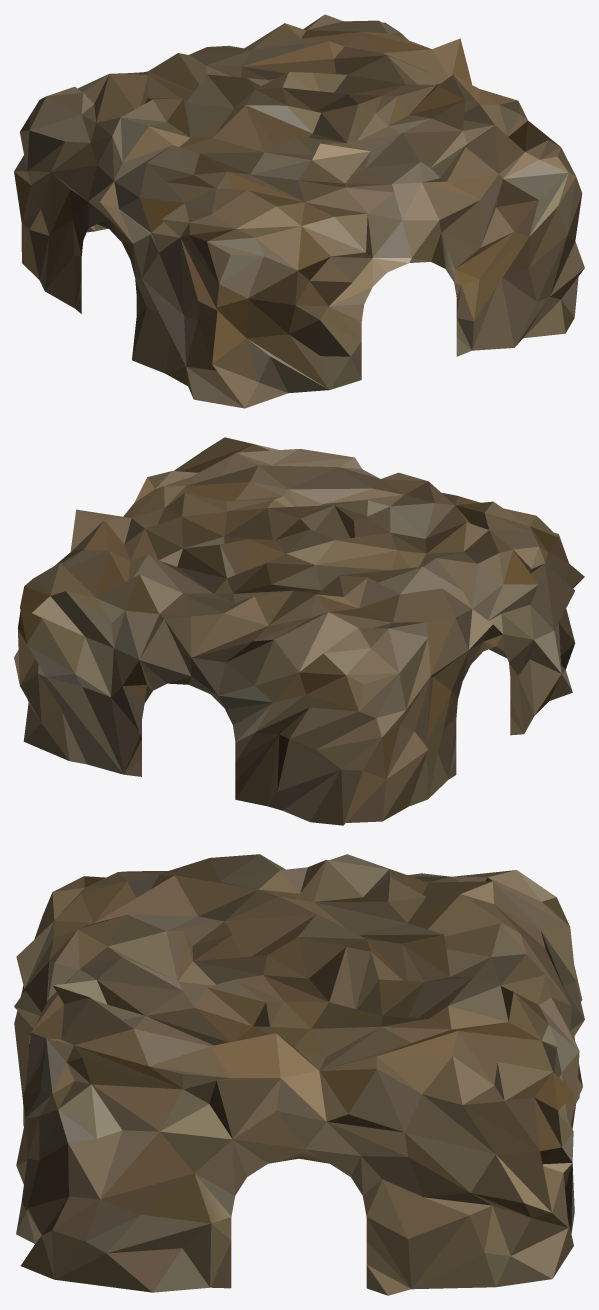
Rendered from Cave-Room4Exit.fbx.
3 views of the same model, one above another, from view 1: azimuth 30°, elevation 25°; view 2: azimuth 150°, elevation 25°; view 3: azimuth 270°, elevation 25° (orthographic). The views are drawn at different scales.
Parts seen in each view (by area): view 1: Cave-Room4Exit; view 2: Cave-Room4Exit; view 3: Cave-Room4Exit.
Part boxes in pixels (<box>): Cave-Room4Exit: <box>14,14,584,408</box>; Cave-Room4Exit: <box>14,437,584,825</box>; Cave-Room4Exit: <box>14,854,584,1295</box>.
Bounding box in the file's own units: 2127 × 955 × 2114.
